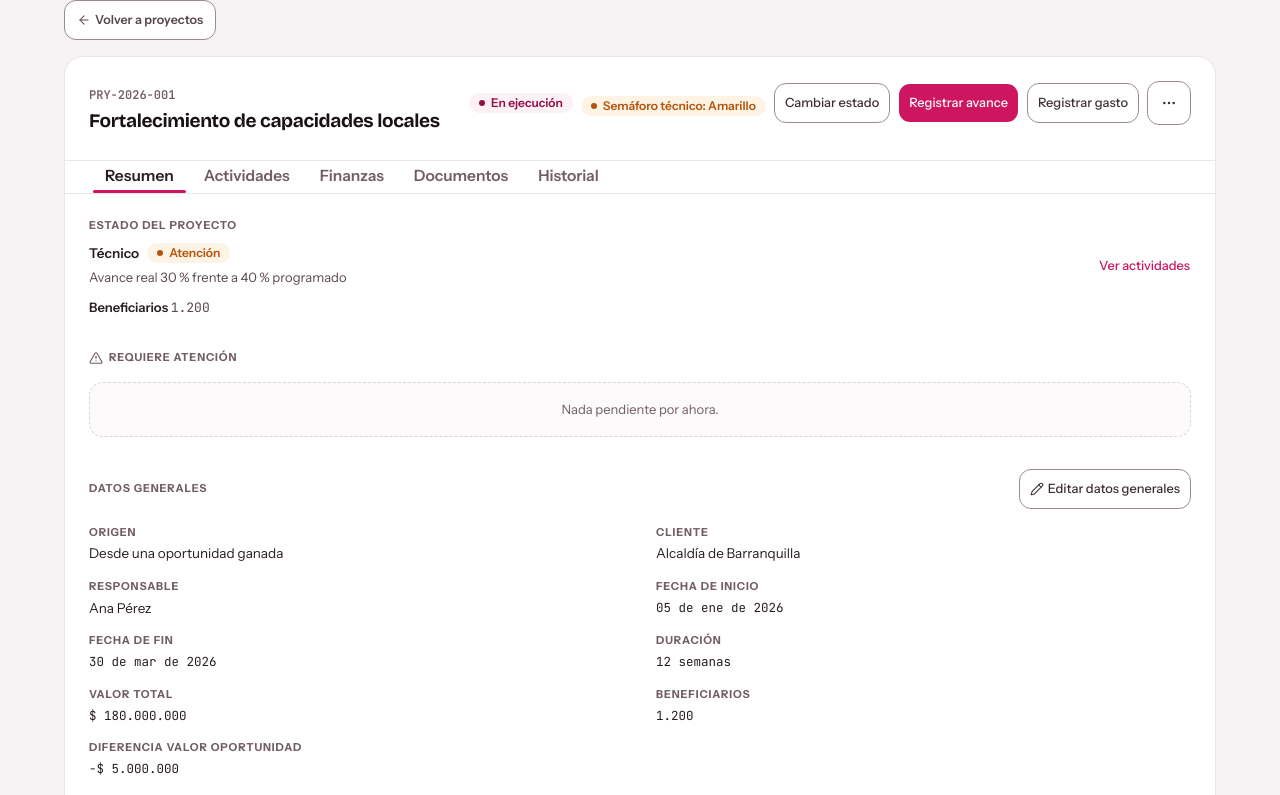
Test case: ProjectFicha (page) › opens Historial on the modifications and mounts versions and audit from their segments
The width and height of the screenshot is (1280, 795).
Click the tab "Historial": point(568, 176) [525, 164, 612, 189]
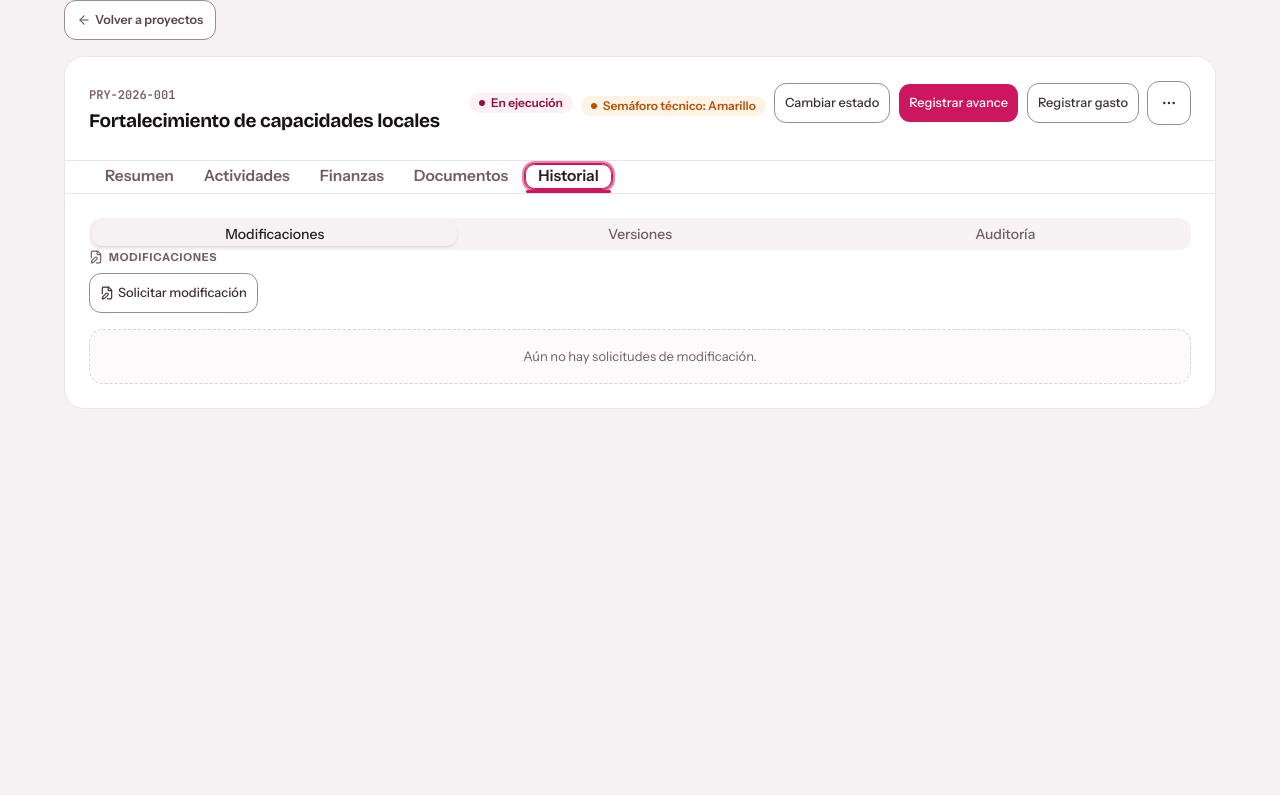
Result: the element with test id "modificaciones" shows "Modificaciones" at [109, 250, 217, 264]
Click the tab "Versiones": point(640, 234) [457, 221, 823, 246]
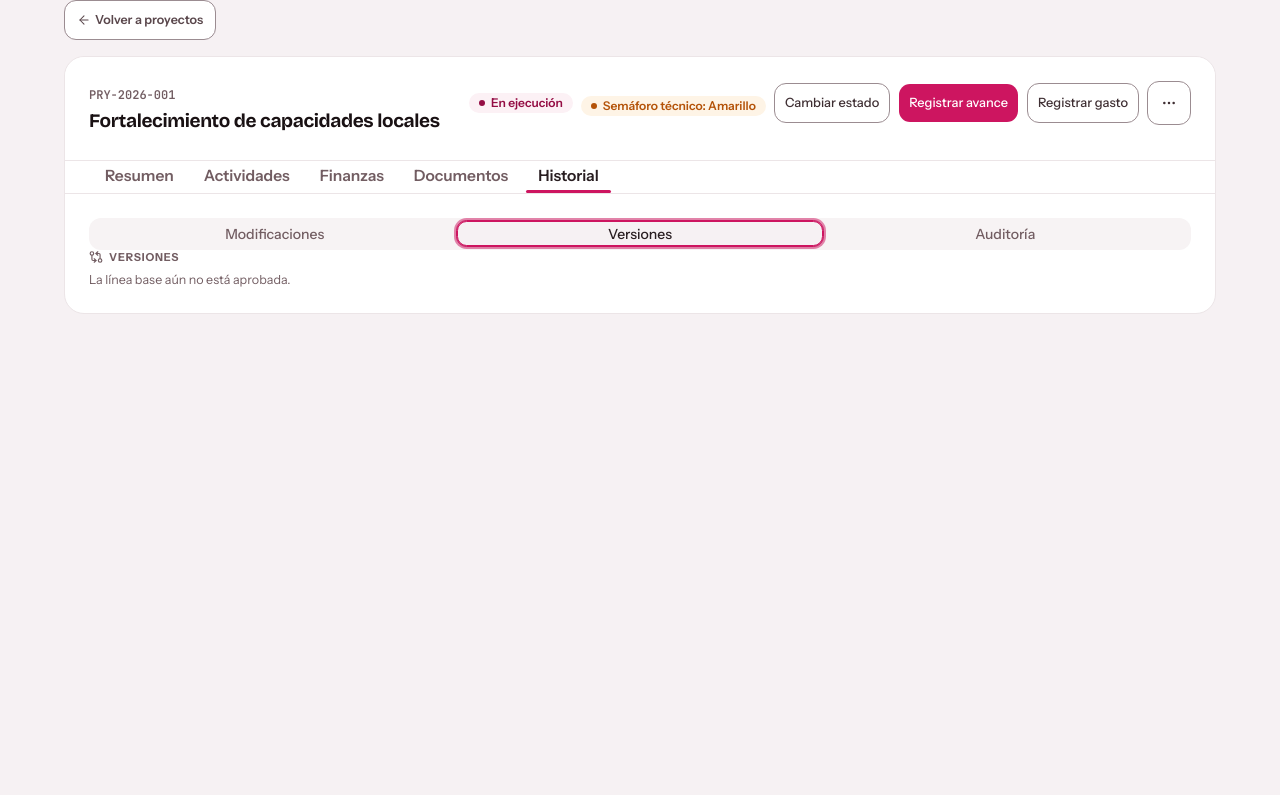
Result: the element with test id "versiones" shows "Versiones" at [109, 250, 179, 264]
Click the tab "Auditoría": point(1005, 234) [823, 221, 1188, 246]
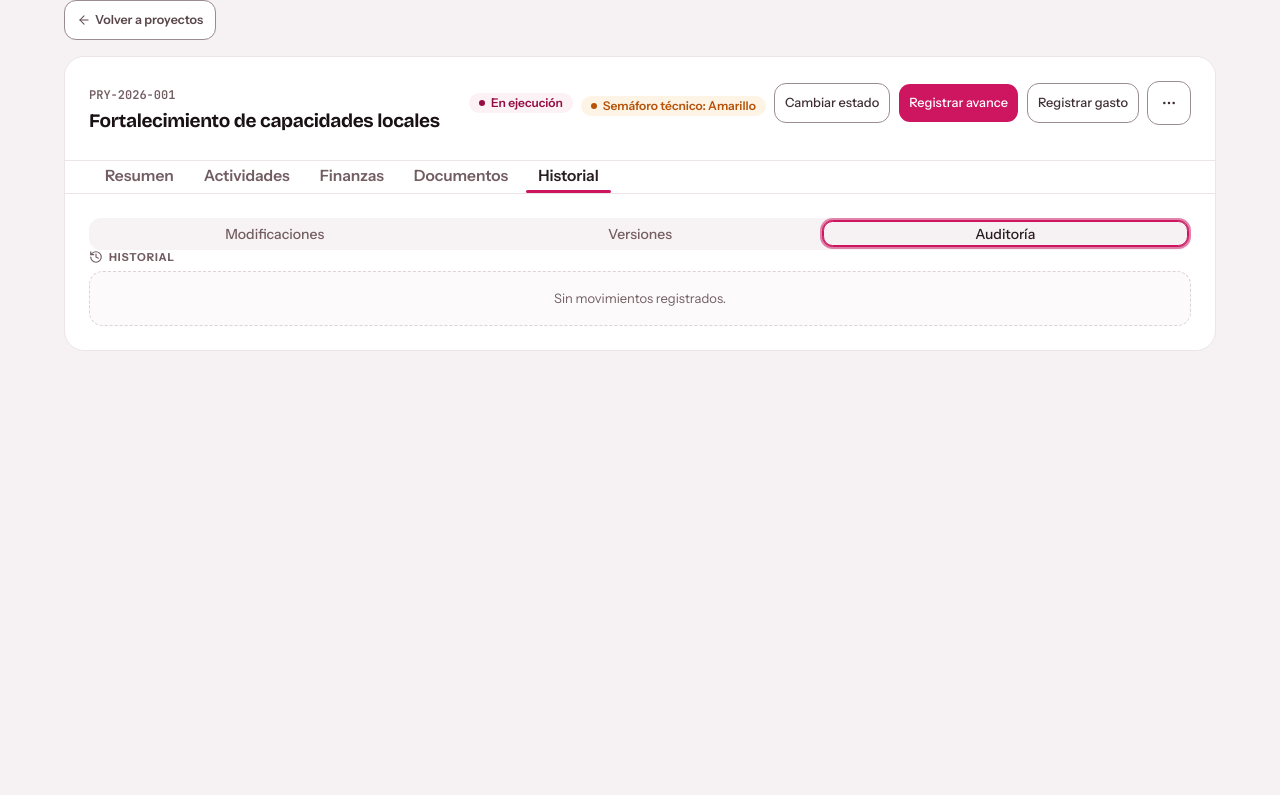
Result: the element with test id "historial" is shown at [89, 250, 1191, 326]
